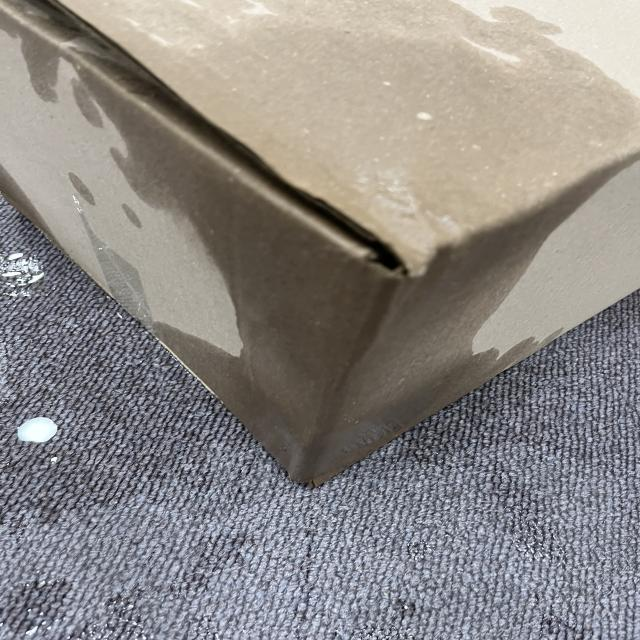wet: (164, 0, 574, 481)
